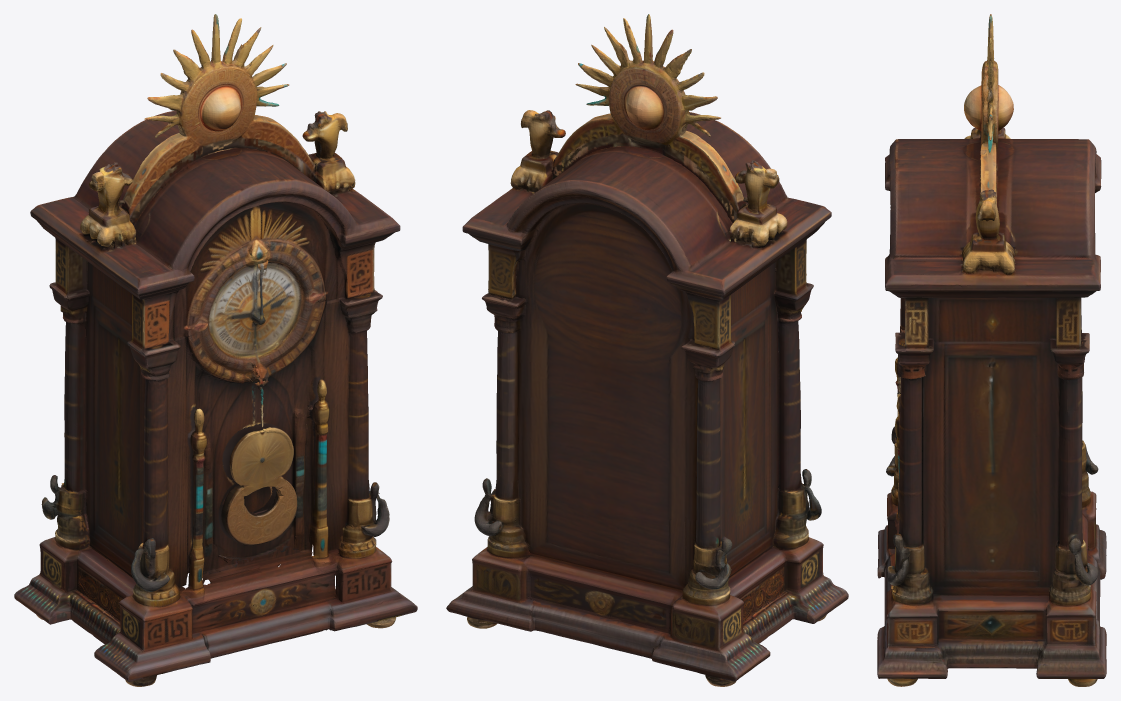
The model's file is A_majestic_Inca_style_0613150851_texture.fbx.
The picture shows the model from 3 angles, left to right: view 1: azimuth 30°, elevation 25°; view 2: azimuth 150°, elevation 25°; view 3: azimuth 270°, elevation 25°; orthographic projection.
Visible parts, largest first — view 1: temp; view 2: temp; view 3: temp.
Part boxes in pixels (left/top/right/bottom): temp: left=14, top=14, right=417, bottom=686; temp: left=446, top=14, right=848, bottom=686; temp: left=877, top=14, right=1106, bottom=686.
Size of the model in its own units: 100 by 200 by 68.39.
1 material, 1 textured.
